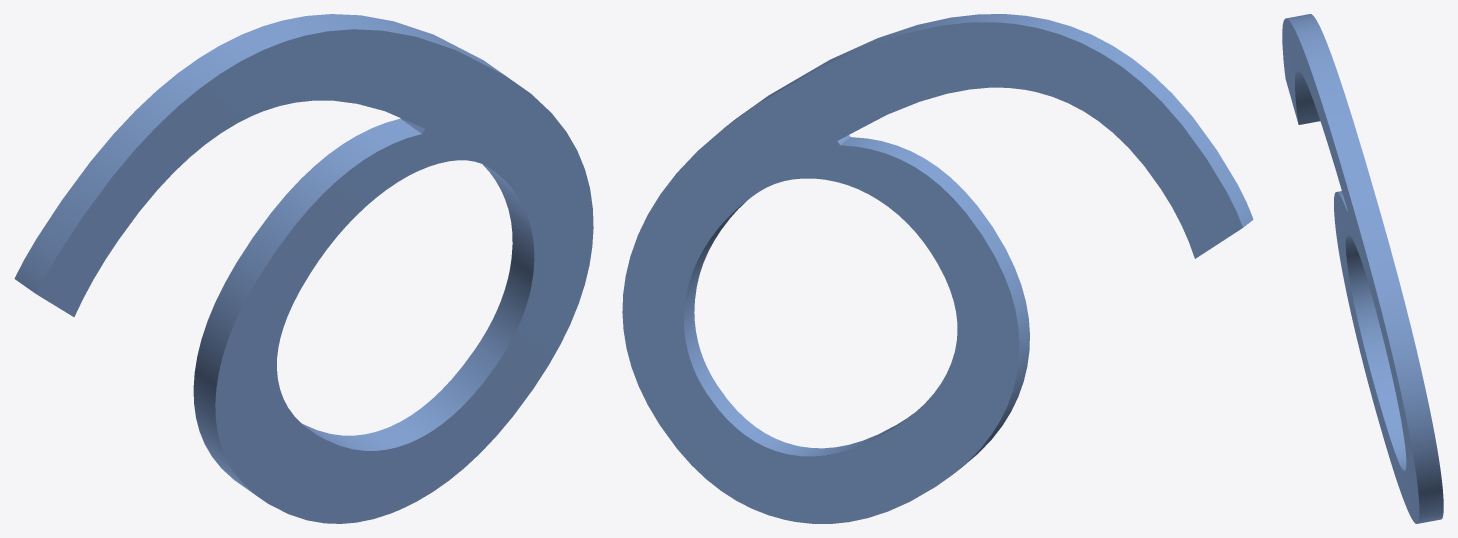
Rendered from New_Number_6.gltf.
The picture shows the model from 3 angles, left to right: view 1: azimuth 30°, elevation 25°; view 2: azimuth 150°, elevation 25°; view 3: azimuth 270°, elevation 25°; orthographic projection. The views are drawn at different scales.
Parts seen in each view (by area): view 1: Part 438; view 2: Part 438; view 3: Part 438.
Part boxes in pixels (x1,y1,x2,y2): Part 438: [14, 14, 593, 523]; Part 438: [622, 14, 1253, 523]; Part 438: [1282, 14, 1443, 523].
Size of the model in its own units: 0.00545 by 0.00465 by 0.00165.
